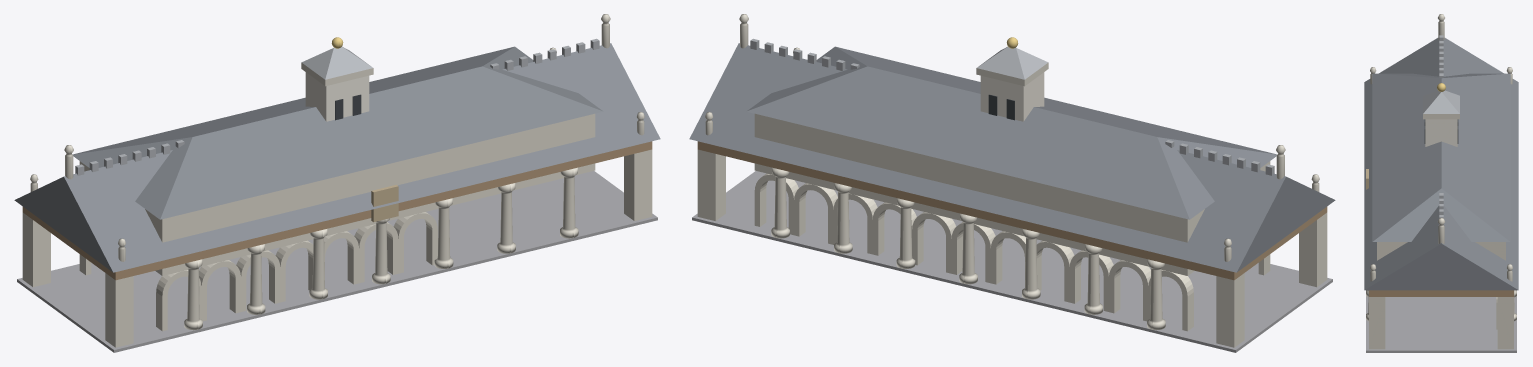
The model's file is corn-market-wine-street.glb.
The picture shows the model from 3 angles, left to right: view 1: azimuth 30°, elevation 25°; view 2: azimuth 150°, elevation 25°; view 3: azimuth 270°, elevation 25°; orthographic projection. The views are drawn at different scales.
Visible parts, largest first — view 1: Roof, floor-pavement, roof-main, Upper_storey, beam-front, pier-corner-01, lantern, pier-corner-02, pier-corner-01_1, lantern-roof, Arch_south_01_1, Arch_south_01_6 (+15 smaller); view 2: Roof, roof-main, floor-pavement, Upper_storey, beam-back, pier-corner-01_1, lantern, pier-corner-02_1, pier-corner-01, lantern-roof, Arch_south_01_16, Arch_south_01_8 (+18 smaller); view 3: Roof, roof-main, floor-pavement, beam-end-east, pier-corner-02, pier-corner-02_1, lantern, lantern-roof, Upper_storey, lantern-cornice, finial-ridge-east, finial-ridge-west.
Boxes of the visible parts, x1=… form: Roof: x1=73, y1=46, x2=603, y2=219; floor-pavement: x1=17, y1=171, x2=657, y2=352; roof-main: x1=14, y1=43, x2=660, y2=272; Upper_storey: x1=79, y1=113, x2=595, y2=275; beam-front: x1=110, y1=141, x2=652, y2=279; pier-corner-01: x1=105, y1=273, x2=133, y2=347; lantern: x1=305, y1=72, x2=369, y2=121; pier-corner-02: x1=624, y1=149, x2=652, y2=220; pier-corner-01_1: x1=22, y1=212, x2=50, y2=287; lantern-roof: x1=302, y1=46, x2=372, y2=79; Arch_south_01_1: x1=199, y1=260, x2=240, y2=321; Arch_south_01_6: x1=393, y1=212, x2=437, y2=273; Roof: x1=746, y1=46, x2=1276, y2=219; roof-main: x1=689, y1=43, x2=1335, y2=272; floor-pavement: x1=692, y1=171, x2=1332, y2=352; Upper_storey: x1=754, y1=113, x2=1270, y2=275; beam-back: x1=697, y1=141, x2=1239, y2=280; pier-corner-01_1: x1=1216, y1=273, x2=1244, y2=347; lantern: x1=980, y1=72, x2=1044, y2=121; pier-corner-02_1: x1=697, y1=149, x2=725, y2=220; pier-corner-01: x1=1299, y1=212, x2=1327, y2=287; lantern-roof: x1=977, y1=46, x2=1047, y2=79; Arch_south_01_16: x1=794, y1=183, x2=837, y2=244; Arch_south_01_8: x1=1109, y1=260, x2=1150, y2=321; Roof: x1=1372, y1=73, x2=1510, y2=241; roof-main: x1=1364, y1=38, x2=1518, y2=290; floor-pavement: x1=1366, y1=296, x2=1516, y2=352; beam-end-east: x1=1369, y1=290, x2=1513, y2=296; pier-corner-02: x1=1369, y1=297, x2=1385, y2=349; pier-corner-02_1: x1=1497, y1=297, x2=1513, y2=349; lantern: x1=1425, y1=119, x2=1457, y2=146; lantern-roof: x1=1423, y1=90, x2=1459, y2=113; Upper_storey: x1=1377, y1=242, x2=1505, y2=260; lantern-cornice: x1=1423, y1=114, x2=1459, y2=119; finial-ridge-east: x1=1437, y1=218, x2=1445, y2=243; finial-ridge-west: x1=1438, y1=14, x2=1444, y2=39.
Bounding box in the file's own units: 30.6 × 11.4 × 9.6.
